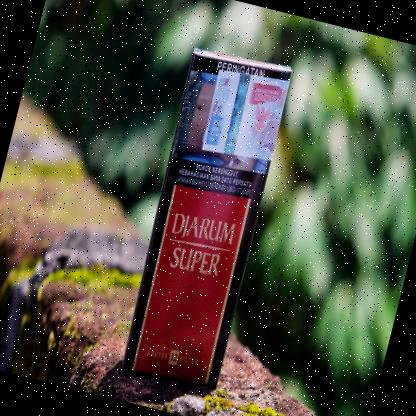bungkus rokok: (112, 27, 302, 401)
